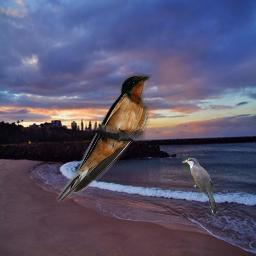Cuckoo: (182, 157, 219, 215)
Swallow: (53, 72, 153, 202)
